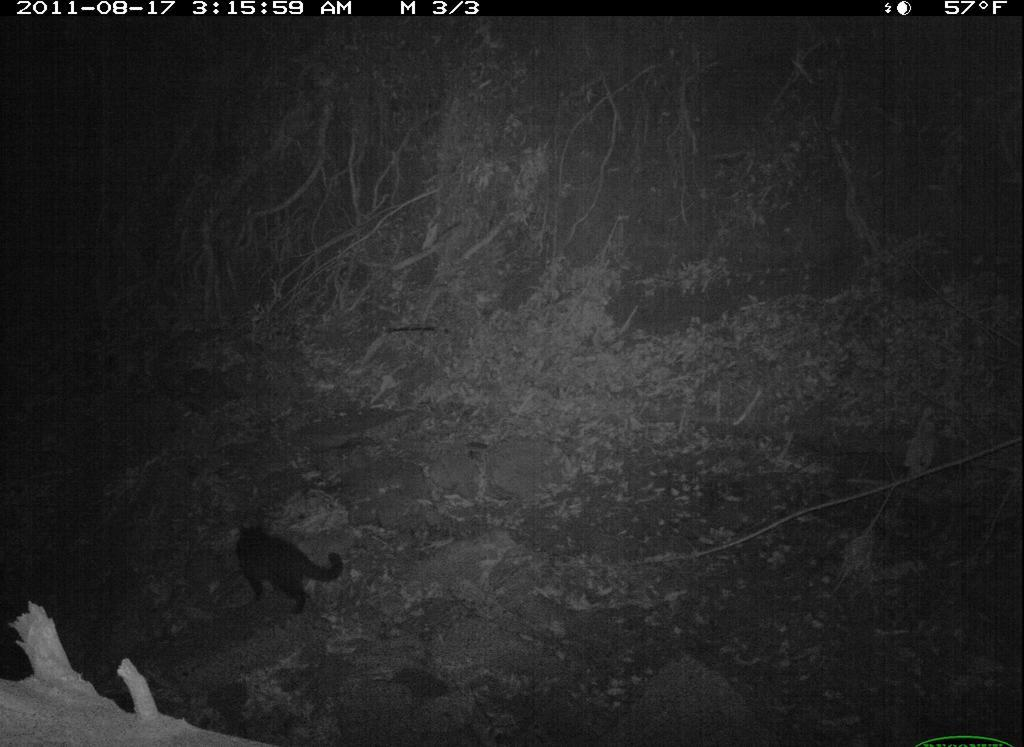cat: (203, 504, 356, 641)
